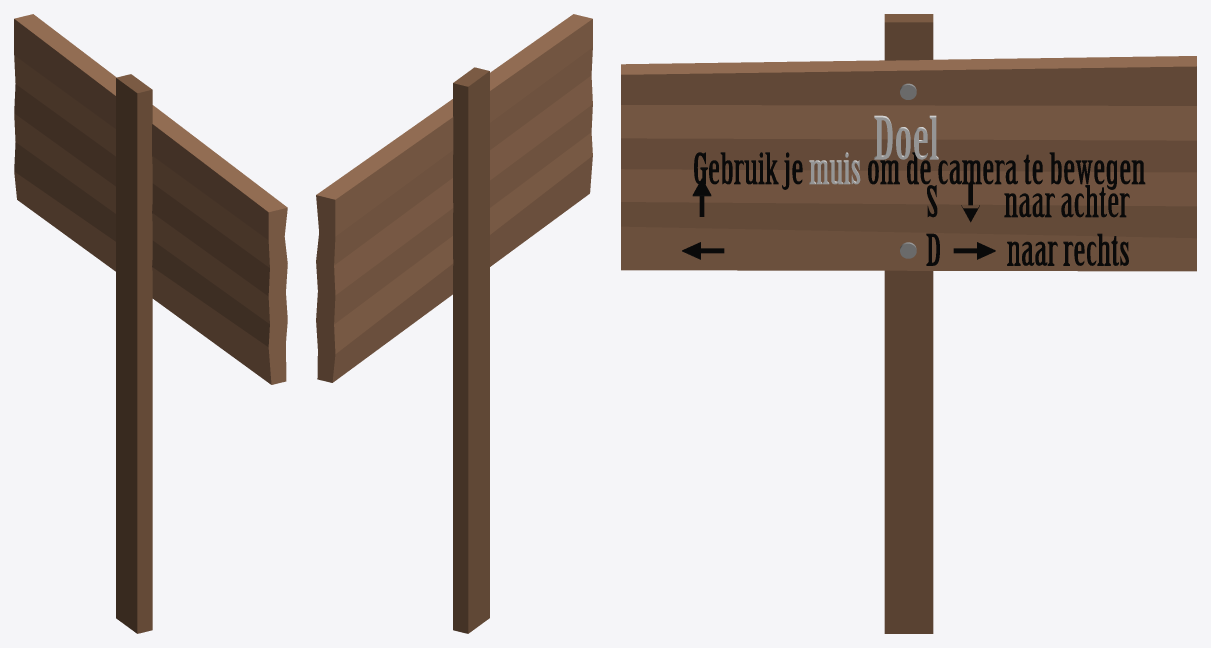
File: bord_muis_camera.fbx
3 renders of one model, left to right at view 1: azimuth 30°, elevation 25°; view 2: azimuth 150°, elevation 25°; view 3: azimuth 270°, elevation 25°, orthographic. The views are drawn at different scales.
Parts seen in each view (by area): view 1: Cube, Cube.001; view 2: Cube, Cube.001; view 3: Cube, Cube.001, Subtexr, Subtexr.001, MAIN TEXT.
Part boxes in pixels (<box>): Cube: <box>14,14,287,384</box>; Cube.001: <box>116,74,152,633</box>; Cube: <box>316,14,592,382</box>; Cube.001: <box>453,67,489,633</box>; Cube: <box>621,56,1196,271</box>; Cube.001: <box>884,14,933,633</box>; Subtexr: <box>694,152,1145,189</box>; Subtexr.001: <box>926,185,1129,265</box>; MAIN TEXT: <box>874,115,938,159</box>.
Size of the model in its own units: 33.51 by 466 by 398.
